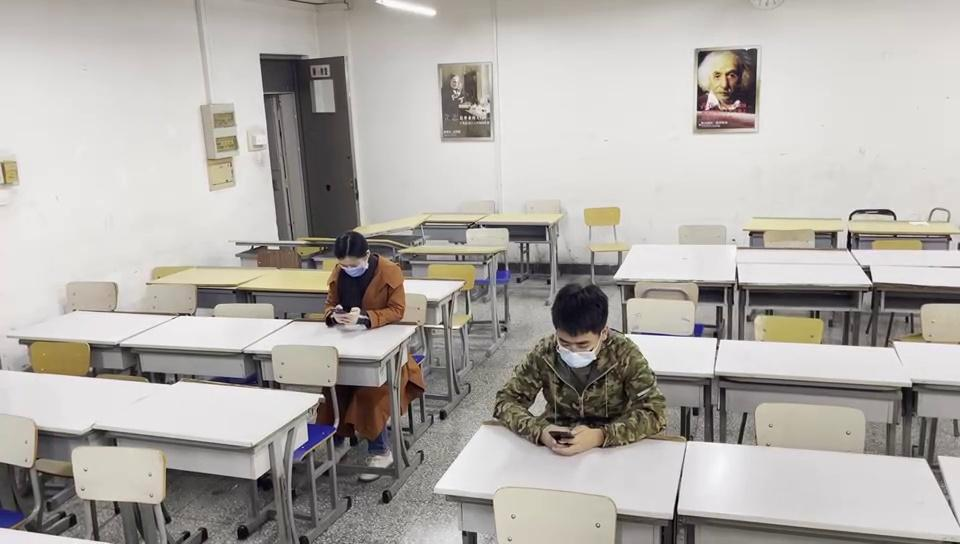phone: (502, 284, 646, 448), (322, 238, 404, 327)
